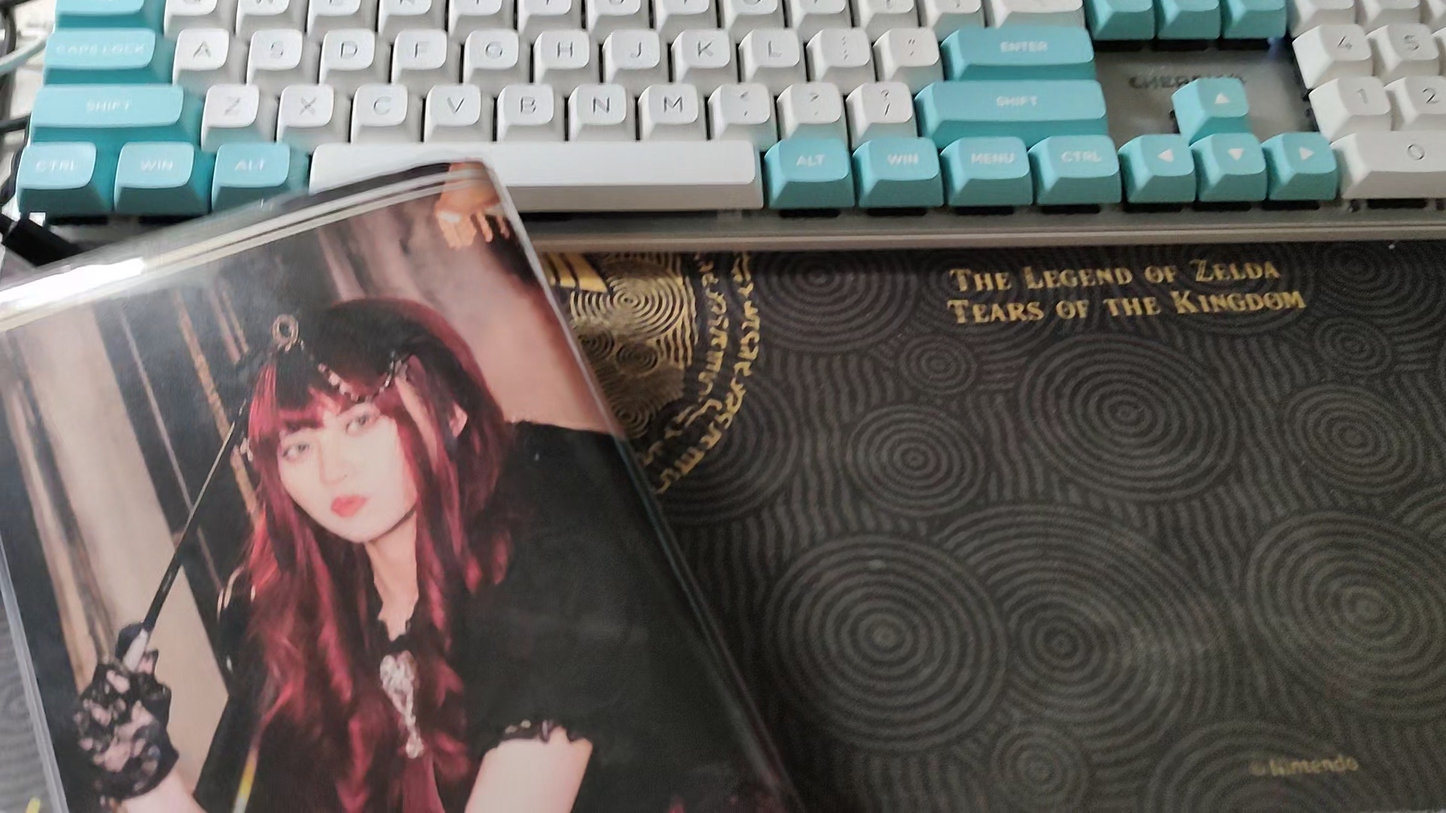Photo_book: (0, 155, 815, 813)
